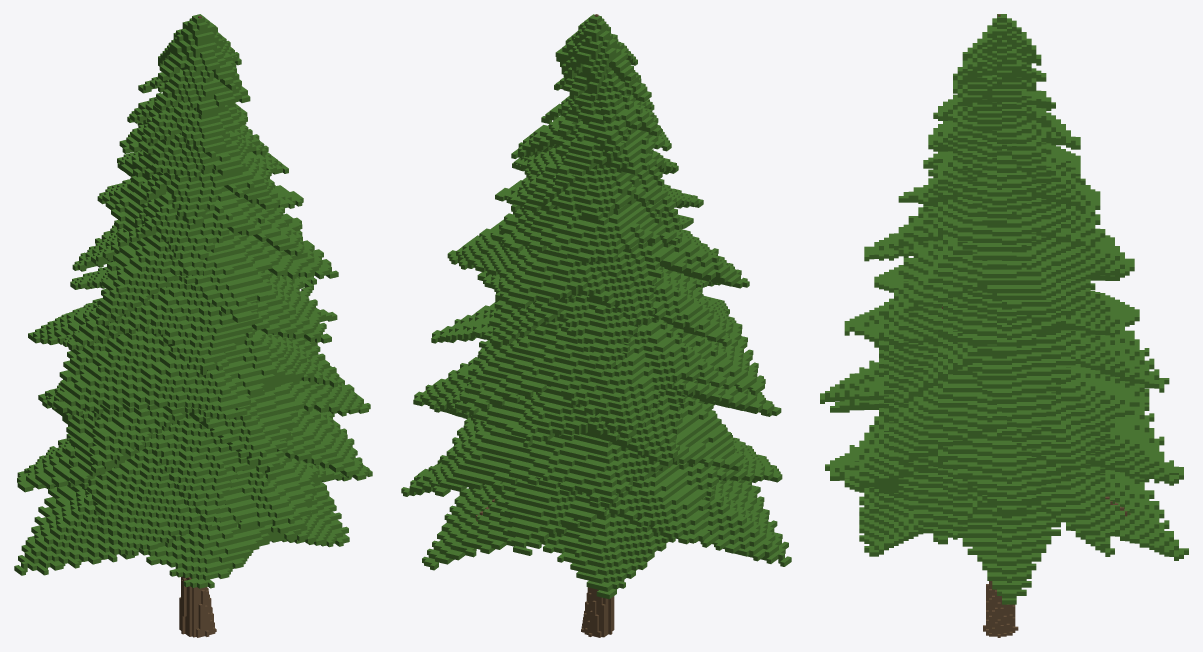
File: tree.glb
The picture shows the model from 3 angles, left to right: view 1: azimuth 30°, elevation 25°; view 2: azimuth 150°, elevation 25°; view 3: azimuth 270°, elevation 25°; orthographic projection.
Parts seen in each view (by area): view 1: Tree_03_voxel; view 2: Tree_03_voxel; view 3: Tree_03_voxel.
Part boxes in pixels (x1,y1,x2,y2): Tree_03_voxel: [14, 14, 372, 637]; Tree_03_voxel: [401, 14, 791, 637]; Tree_03_voxel: [820, 14, 1188, 637].
Bounding box in the file's own units: 0.8536 × 1.39 × 0.7532.
1 material, 1 textured.
